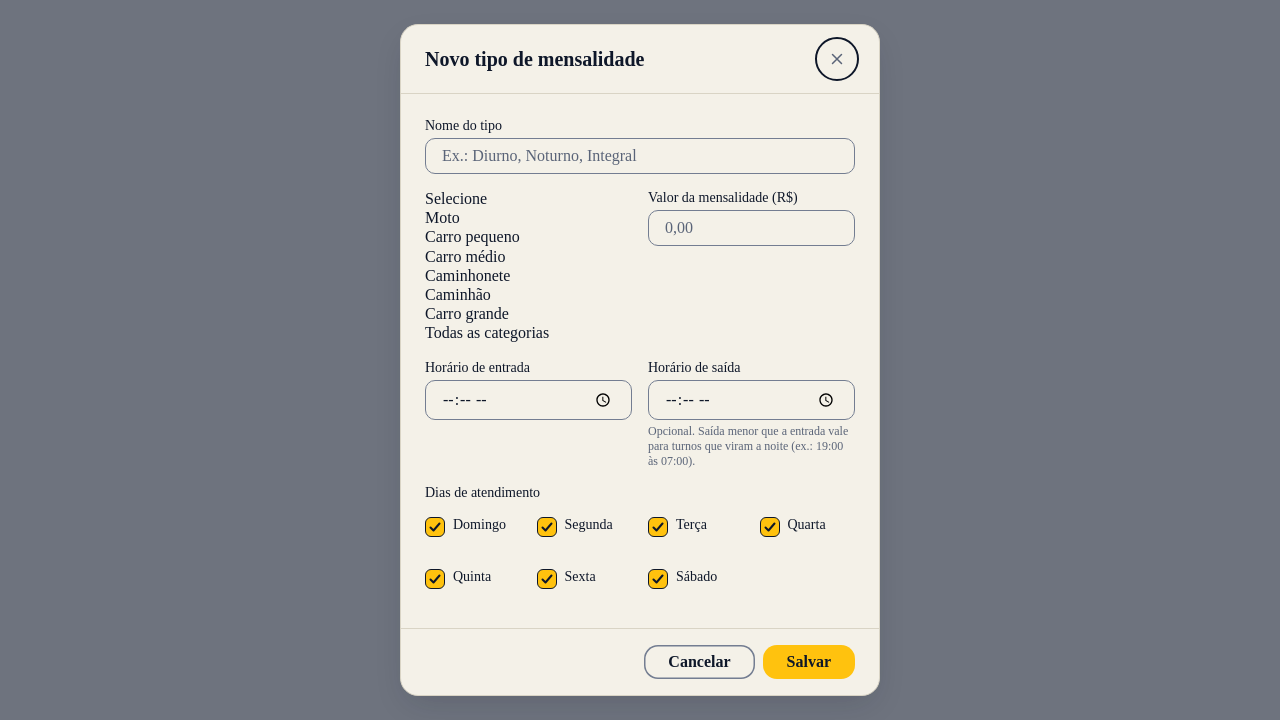
Scenario: TipoModal › pede confirmação ao descartar com alterações
Type "Diurno" into the field labelled "Nome do tipo" at (640, 156), box x1=425 y1=138 x2=855 y2=174
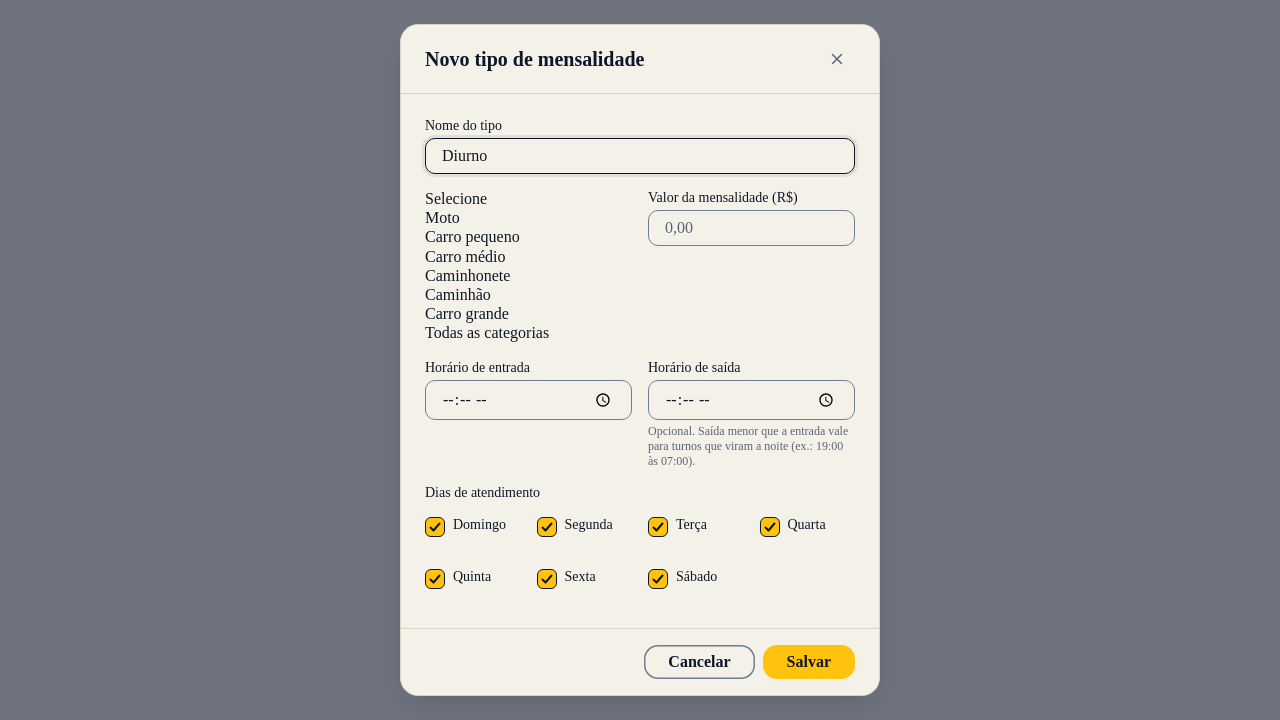
Click the button "Cancelar" at (699, 662), box x1=644 y1=645 x2=754 y2=679
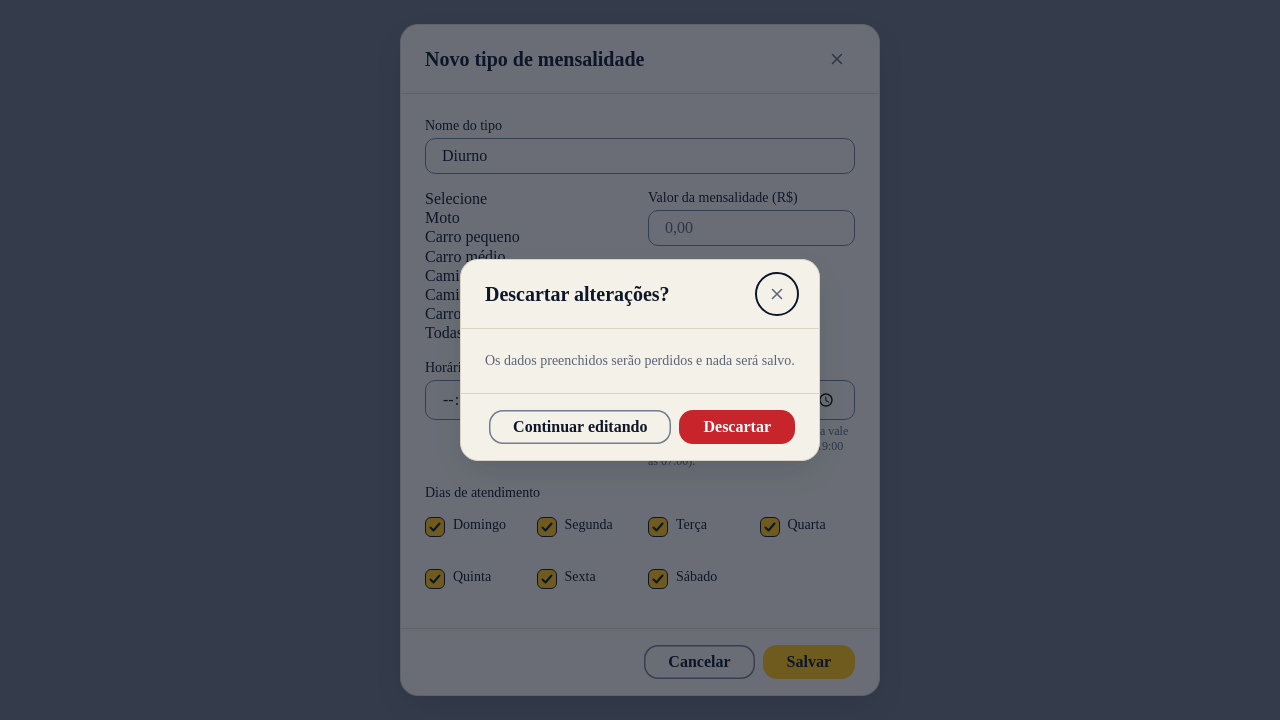
Result: the heading "Descartar alterações?" is shown at x1=485 y1=282 x2=670 y2=306
